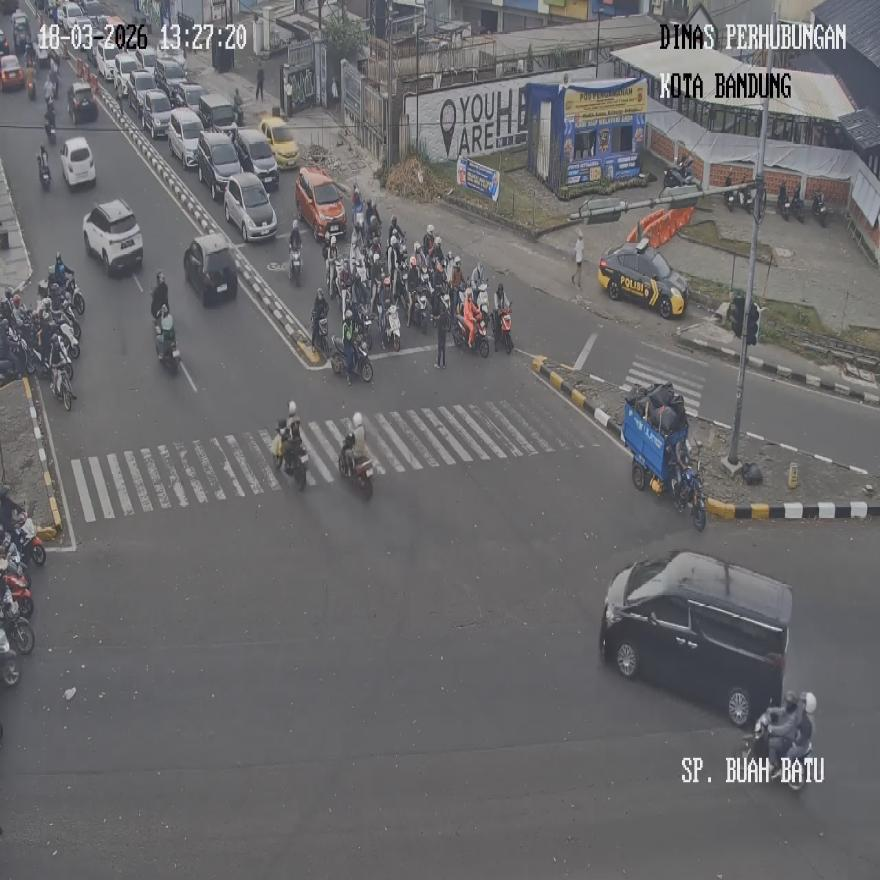Motor: (598, 549, 792, 726), (82, 197, 142, 275), (295, 165, 346, 241), (225, 171, 278, 241), (184, 233, 236, 304)
Truk: (742, 712, 811, 790), (6, 505, 46, 567), (672, 458, 706, 530), (330, 331, 372, 383), (279, 424, 307, 491), (453, 308, 490, 357), (339, 446, 373, 499), (41, 274, 83, 316), (48, 354, 75, 410), (156, 315, 178, 374), (0, 629, 20, 687), (492, 302, 512, 354), (663, 156, 693, 190), (407, 288, 429, 332), (383, 299, 401, 352), (311, 314, 328, 358), (741, 180, 762, 215), (36, 146, 51, 190), (327, 256, 341, 300), (289, 240, 302, 284), (811, 191, 827, 226), (779, 183, 791, 220), (44, 105, 55, 144), (724, 180, 737, 212), (792, 192, 805, 222), (28, 69, 36, 100)
